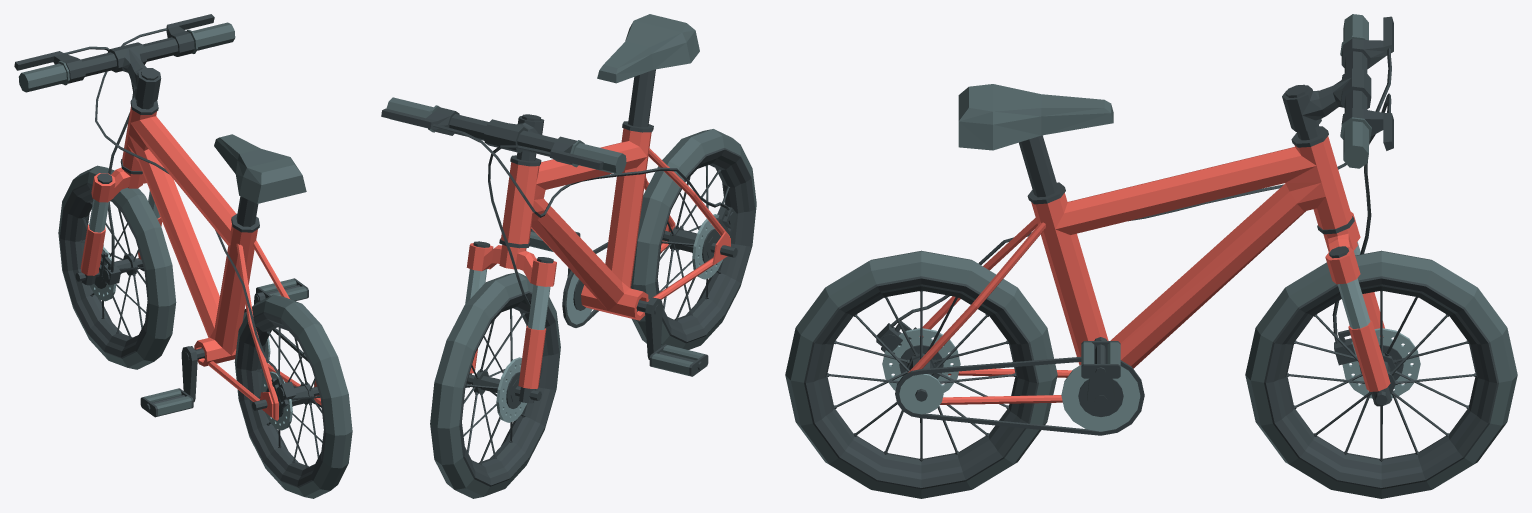
Rendered from Bike.gltf.
3 views of the same model, side by side, from view 1: azimuth 30°, elevation 25°; view 2: azimuth 150°, elevation 25°; view 3: azimuth 270°, elevation 25° (orthographic). The views are drawn at different scales.
Visible parts, largest first — view 1: Bike; view 2: Bike; view 3: Bike.
Boxes of the visible parts, x1,y1,x2,y2 form: Bike: (14,14,352,498); Bike: (381,14,756,498); Bike: (785,14,1517,498).
Size of the model in its own units: 75.39 by 113 by 177.
